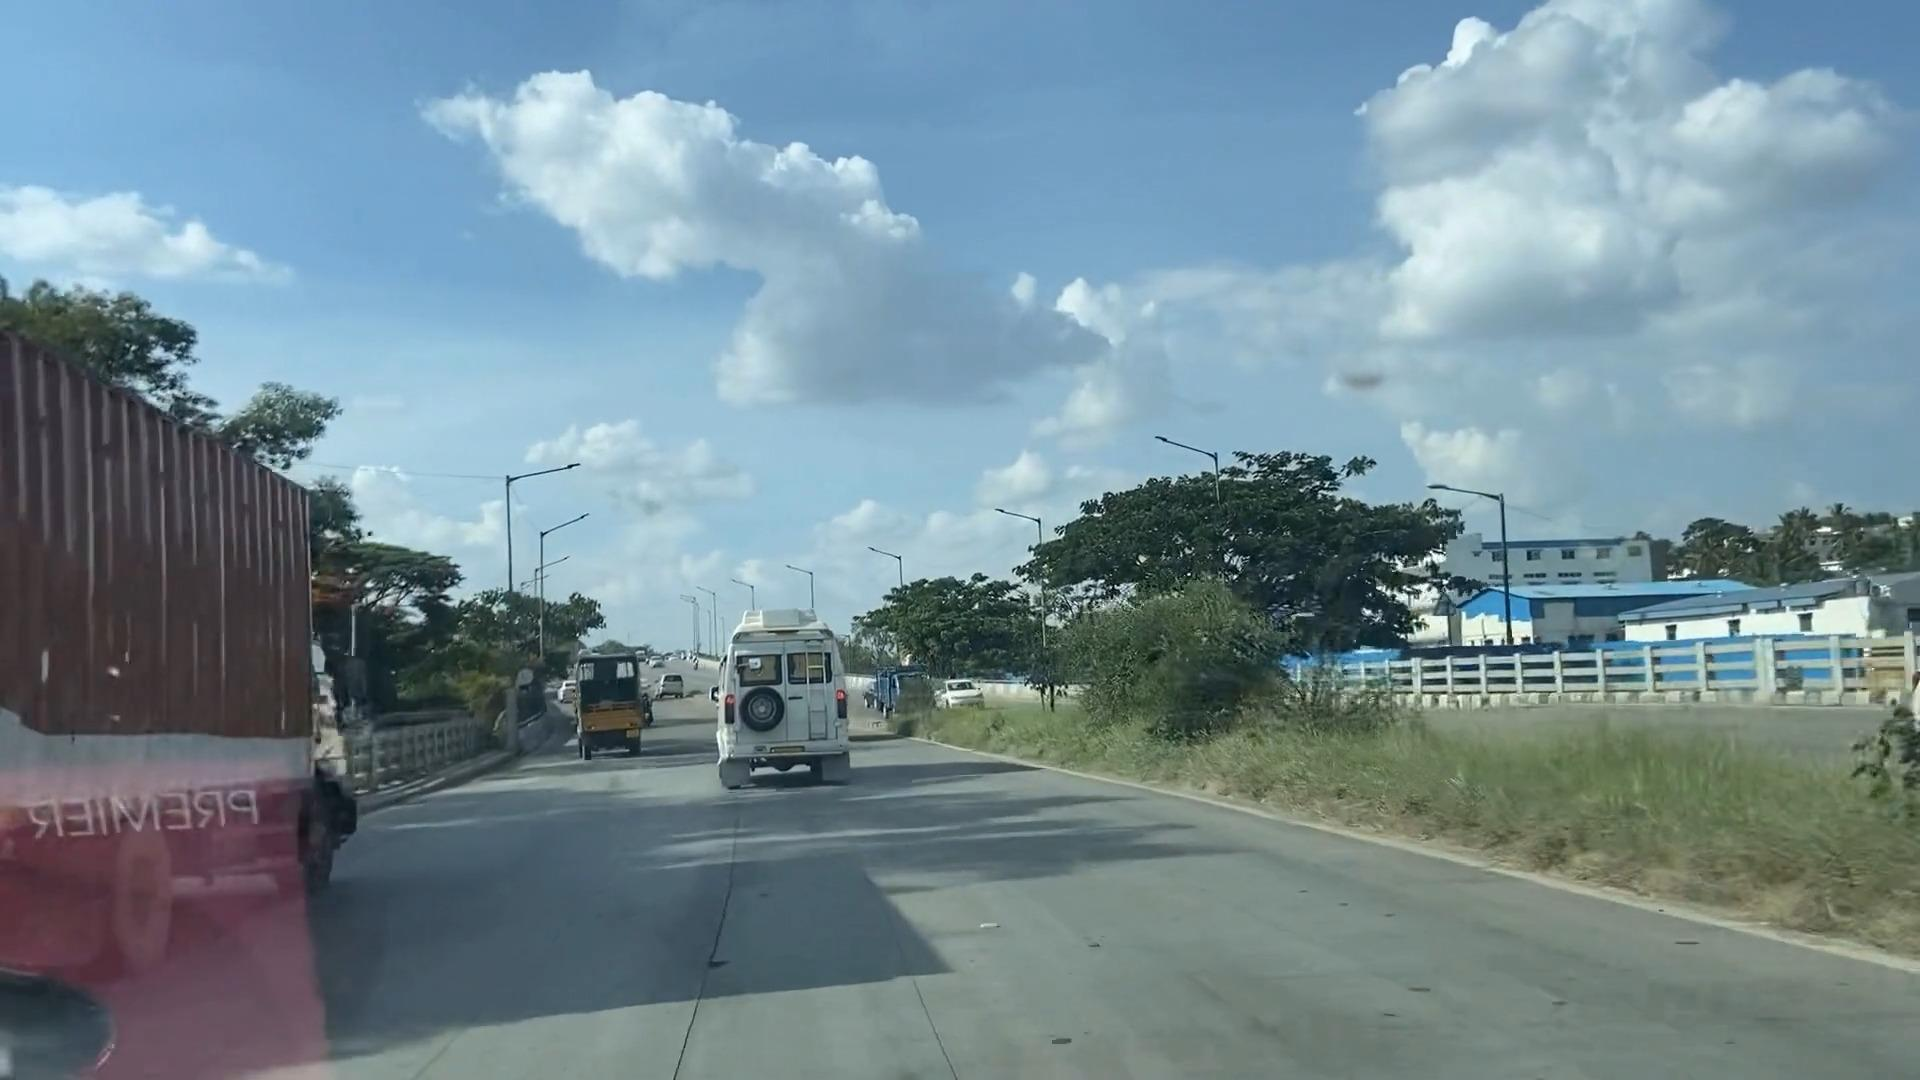HMV: (0, 320, 357, 952), (720, 591, 841, 786), (568, 633, 653, 764)
